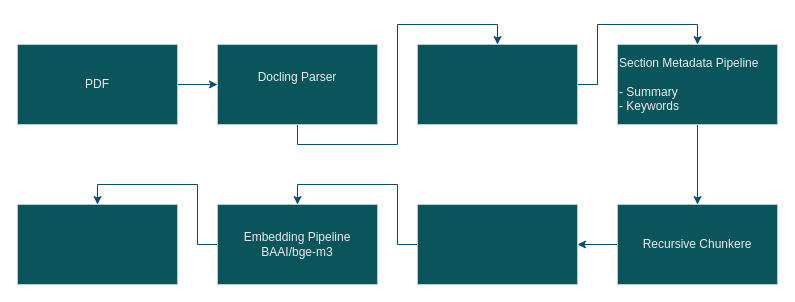
The diagram is 795 pixels wide and 302 high, and some of its shapes have lost their labels. Here are the shapes that lost their labels. From the top down, the centre of each, then its label:
At point 497,84: "Document Cleaner".
At point 97,244: "Qdrant Storage".
At point 497,244: "Chunk Metadata Pipeline - Summary - Keywords".
